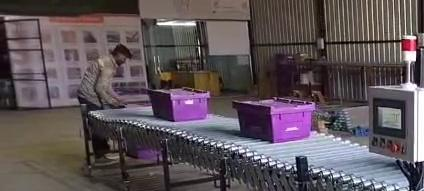box: (233, 98, 314, 142), (148, 88, 209, 121)
